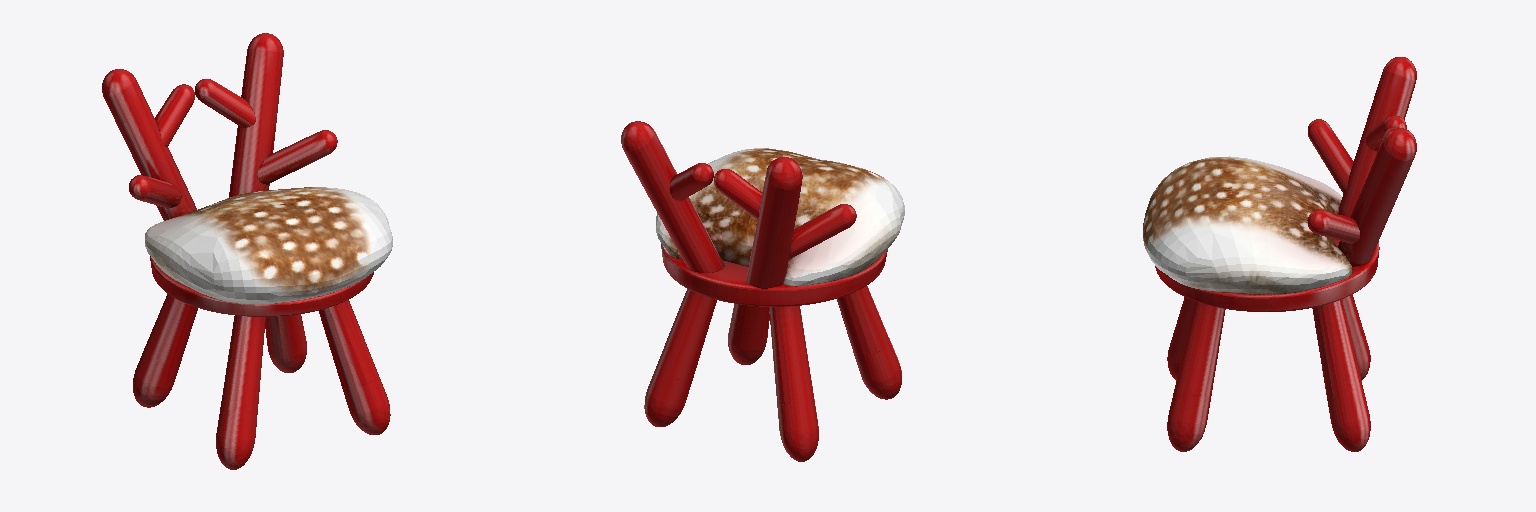
3 views of the same model, side by side, from view 1: azimuth 30°, elevation 25°; view 2: azimuth 150°, elevation 25°; view 3: azimuth 270°, elevation 25° (orthographic).
Visible parts, largest first — view 1: solid_001; view 2: solid_001; view 3: solid_001.
Part boxes in pixels (bbox=[...]): solid_001: bbox=[102, 33, 392, 469]; solid_001: bbox=[621, 121, 904, 461]; solid_001: bbox=[1143, 57, 1416, 451].
Size of the model in its own units: 0.9708 by 1.4 by 1.08.
1 materials, 1 textured.